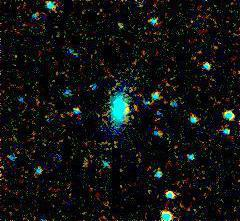star: (108, 93, 138, 123)
